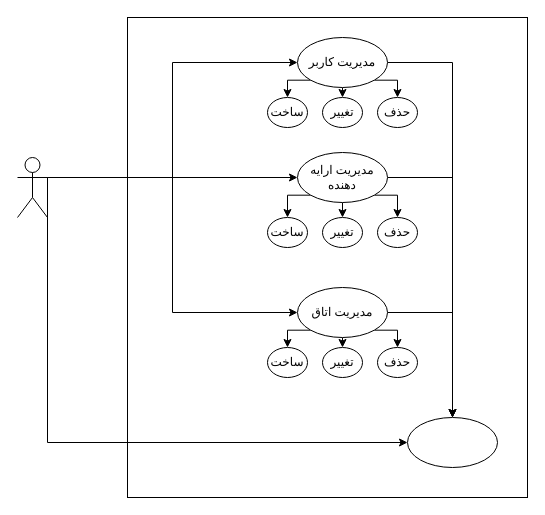
The diagram is 545 pixels wide and 515 high, and some of its shapes have lost their labels. The shapes that lost their labels are listed below. From the top down, each one's centre as x and y in pixels, then its label:
At point (32, 187): "منشی".
At point (452, 442): "مدیریت رزرو".
